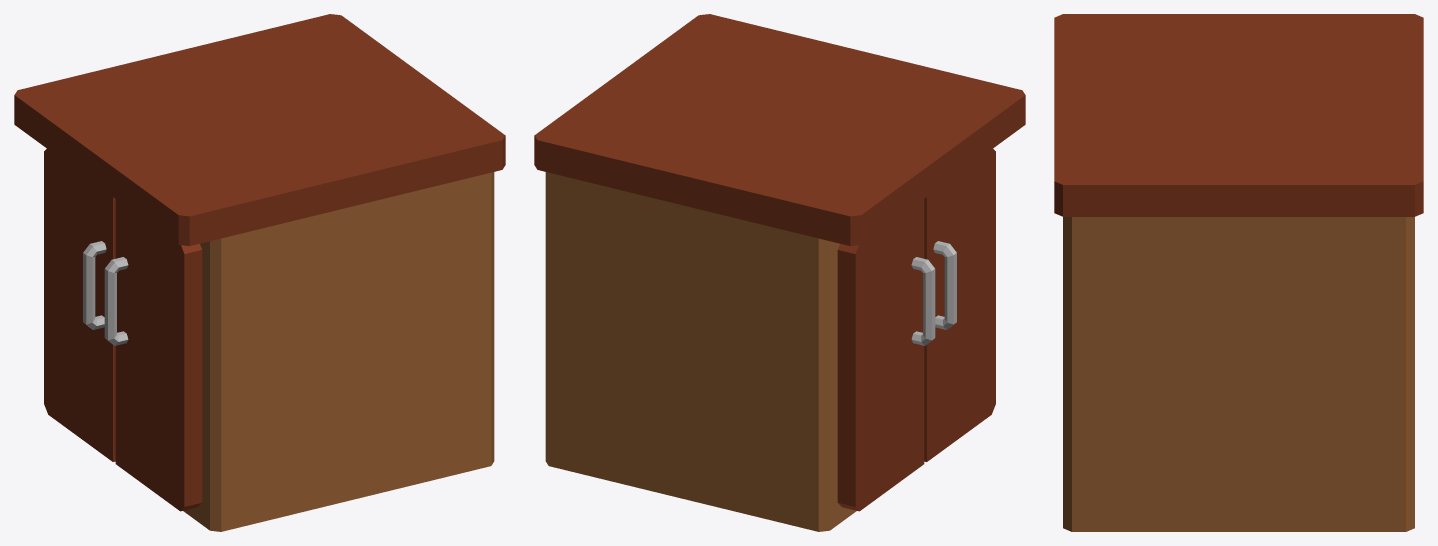
The model's file is Clear_Counter.fbx.
3 renders of one model, left to right at view 1: azimuth 30°, elevation 25°; view 2: azimuth 150°, elevation 25°; view 3: azimuth 270°, elevation 25°, orthographic. The views are drawn at different scales.
Visible parts, largest first — view 1: Counter_Base, Counter_Top, Counter_Doors, Handles; view 2: Counter_Base, Counter_Top, Counter_Doors, Handles; view 3: Counter_Base, Counter_Top.
Boxes of the visible parts, box(x1,y1,x2,y2) form: Counter_Base: box(183, 172, 494, 531); Counter_Top: box(14, 14, 505, 245); Counter_Doors: box(44, 149, 202, 511); Handles: box(83, 241, 128, 345); Counter_Base: box(545, 172, 856, 531); Counter_Top: box(534, 14, 1025, 245); Counter_Doors: box(837, 149, 995, 511); Handles: box(911, 241, 956, 345); Counter_Base: box(1063, 217, 1414, 531); Counter_Top: box(1054, 14, 1423, 216).
Bounding box in the file's own units: 1.15 × 1.1 × 1.05.
